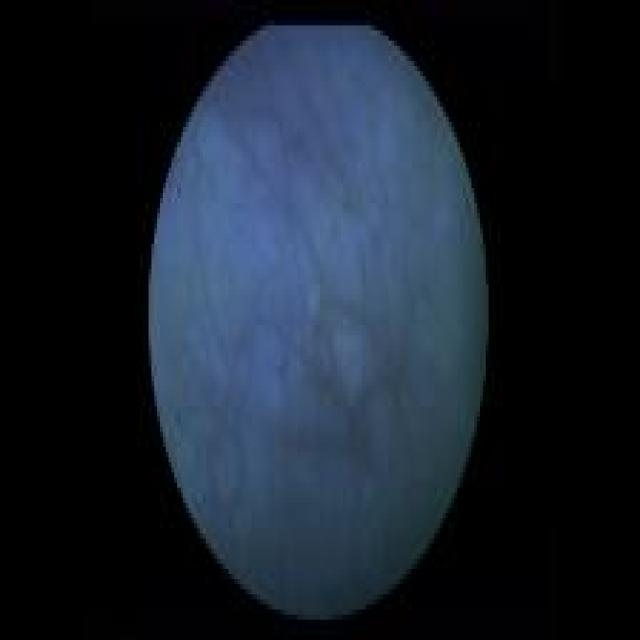color misalignment: (446, 130, 489, 479)
